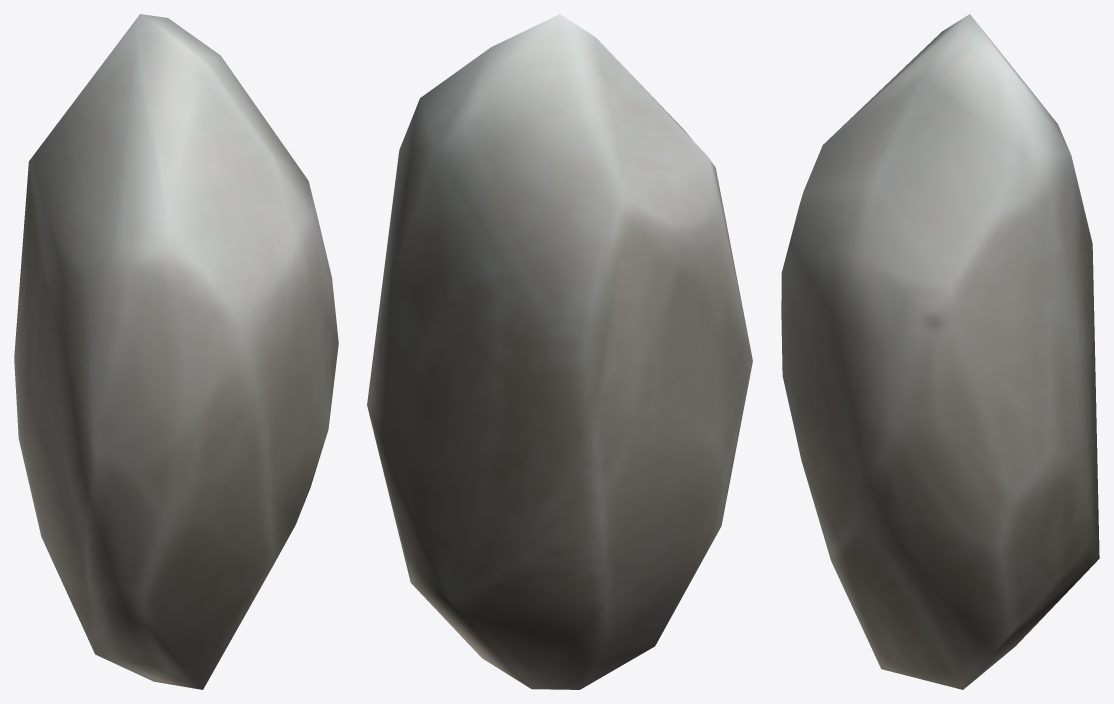
Rendered from SM_Gem_Silver_002.fbx.
3 views of the same model, side by side, from view 1: azimuth 30°, elevation 25°; view 2: azimuth 150°, elevation 25°; view 3: azimuth 270°, elevation 25° (orthographic). The views are drawn at different scales.
Visible parts, largest first — view 1: SM_Gem_Silver_002; view 2: SM_Gem_Silver_002; view 3: SM_Gem_Silver_002.
Part boxes in pixels (x1,y1,x2,y2): SM_Gem_Silver_002: (14, 14, 338, 689); SM_Gem_Silver_002: (367, 14, 752, 689); SM_Gem_Silver_002: (781, 14, 1099, 689).
Bounding box in the file's own units: 13.35 × 29.92 × 13.27.
